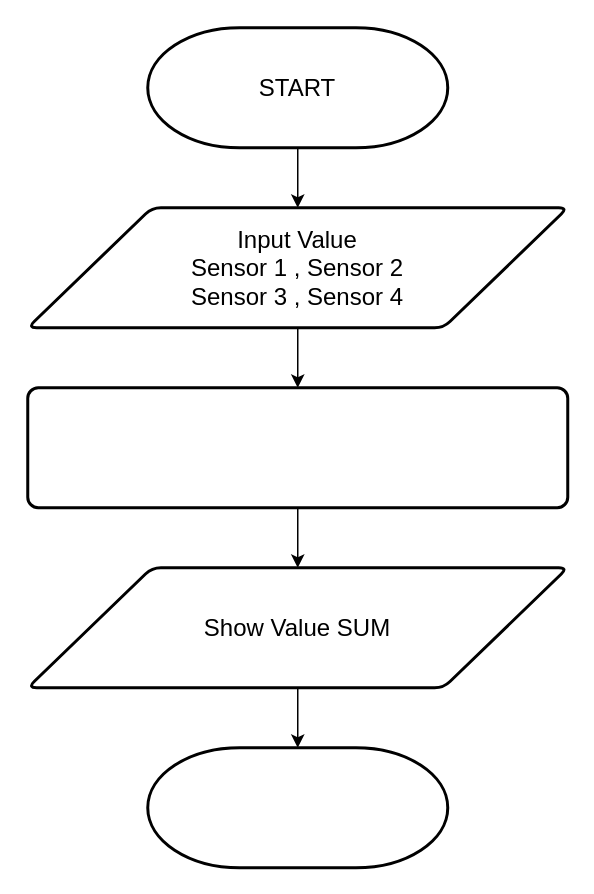
The diagram is 594 pixels wide and 894 high, and some of its shapes have lost their labels. Each missing label, with the centre of its shape:
END: the point at 297,807
SUM = Sensor 1+Sensor 2+Sensor 3+Sensor 4: the point at 297,447
